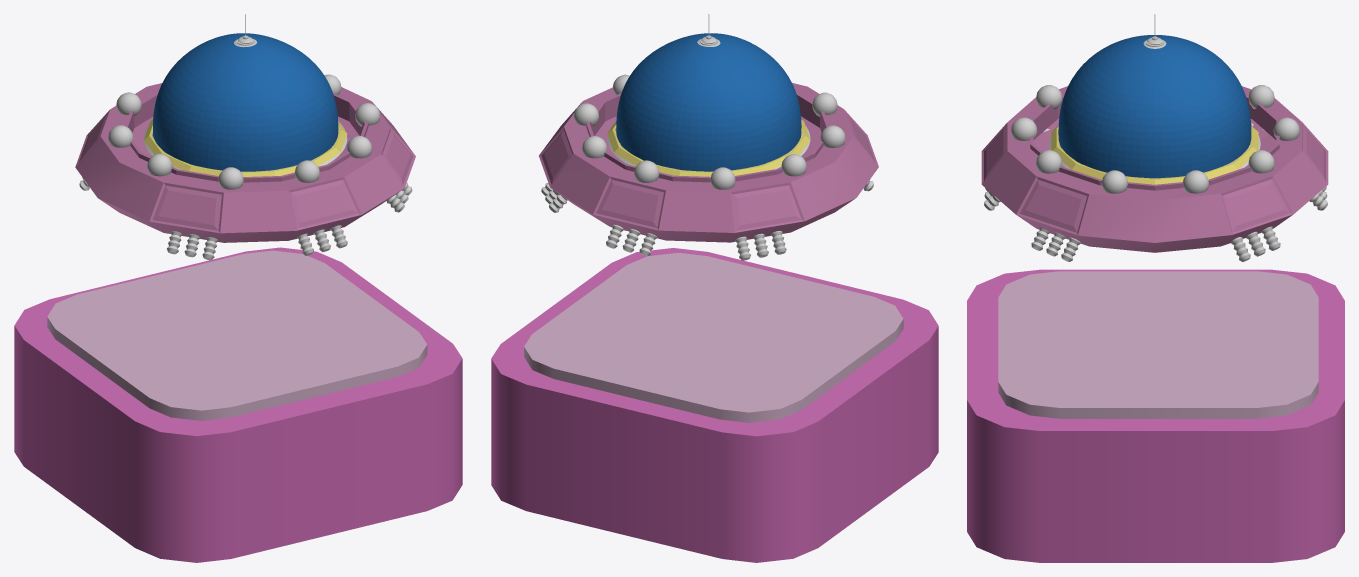
The picture shows the model from 3 angles, left to right: view 1: azimuth 30°, elevation 25°; view 2: azimuth 150°, elevation 25°; view 3: azimuth 270°, elevation 25°; orthographic projection. The views are drawn at different scales.
Visible parts, largest first — view 1: 平台, 飞船合并; view 2: 平台, 飞船合并; view 3: 平台, 飞船合并.
Part boxes in pixels (box(x1,y1,x2,y2)): 平台: box(14, 247, 462, 562); 飞船合并: box(75, 14, 415, 260); 平台: box(491, 248, 938, 562); 飞船合并: box(539, 14, 878, 260); 平台: box(967, 269, 1344, 562); 飞船合并: box(981, 14, 1328, 261).
Bounding box in the file's own units: 517 × 705 × 512.
